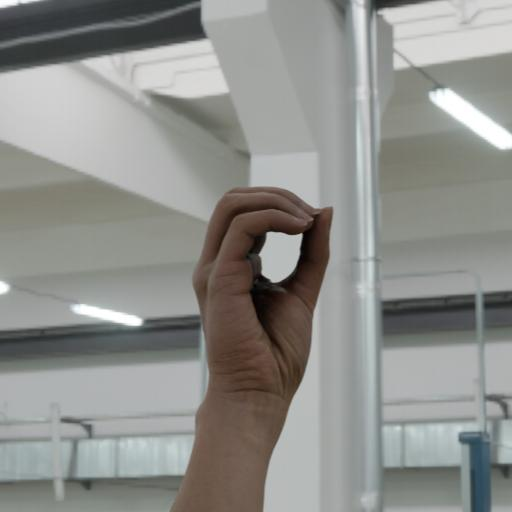O: (179, 171, 352, 490)
